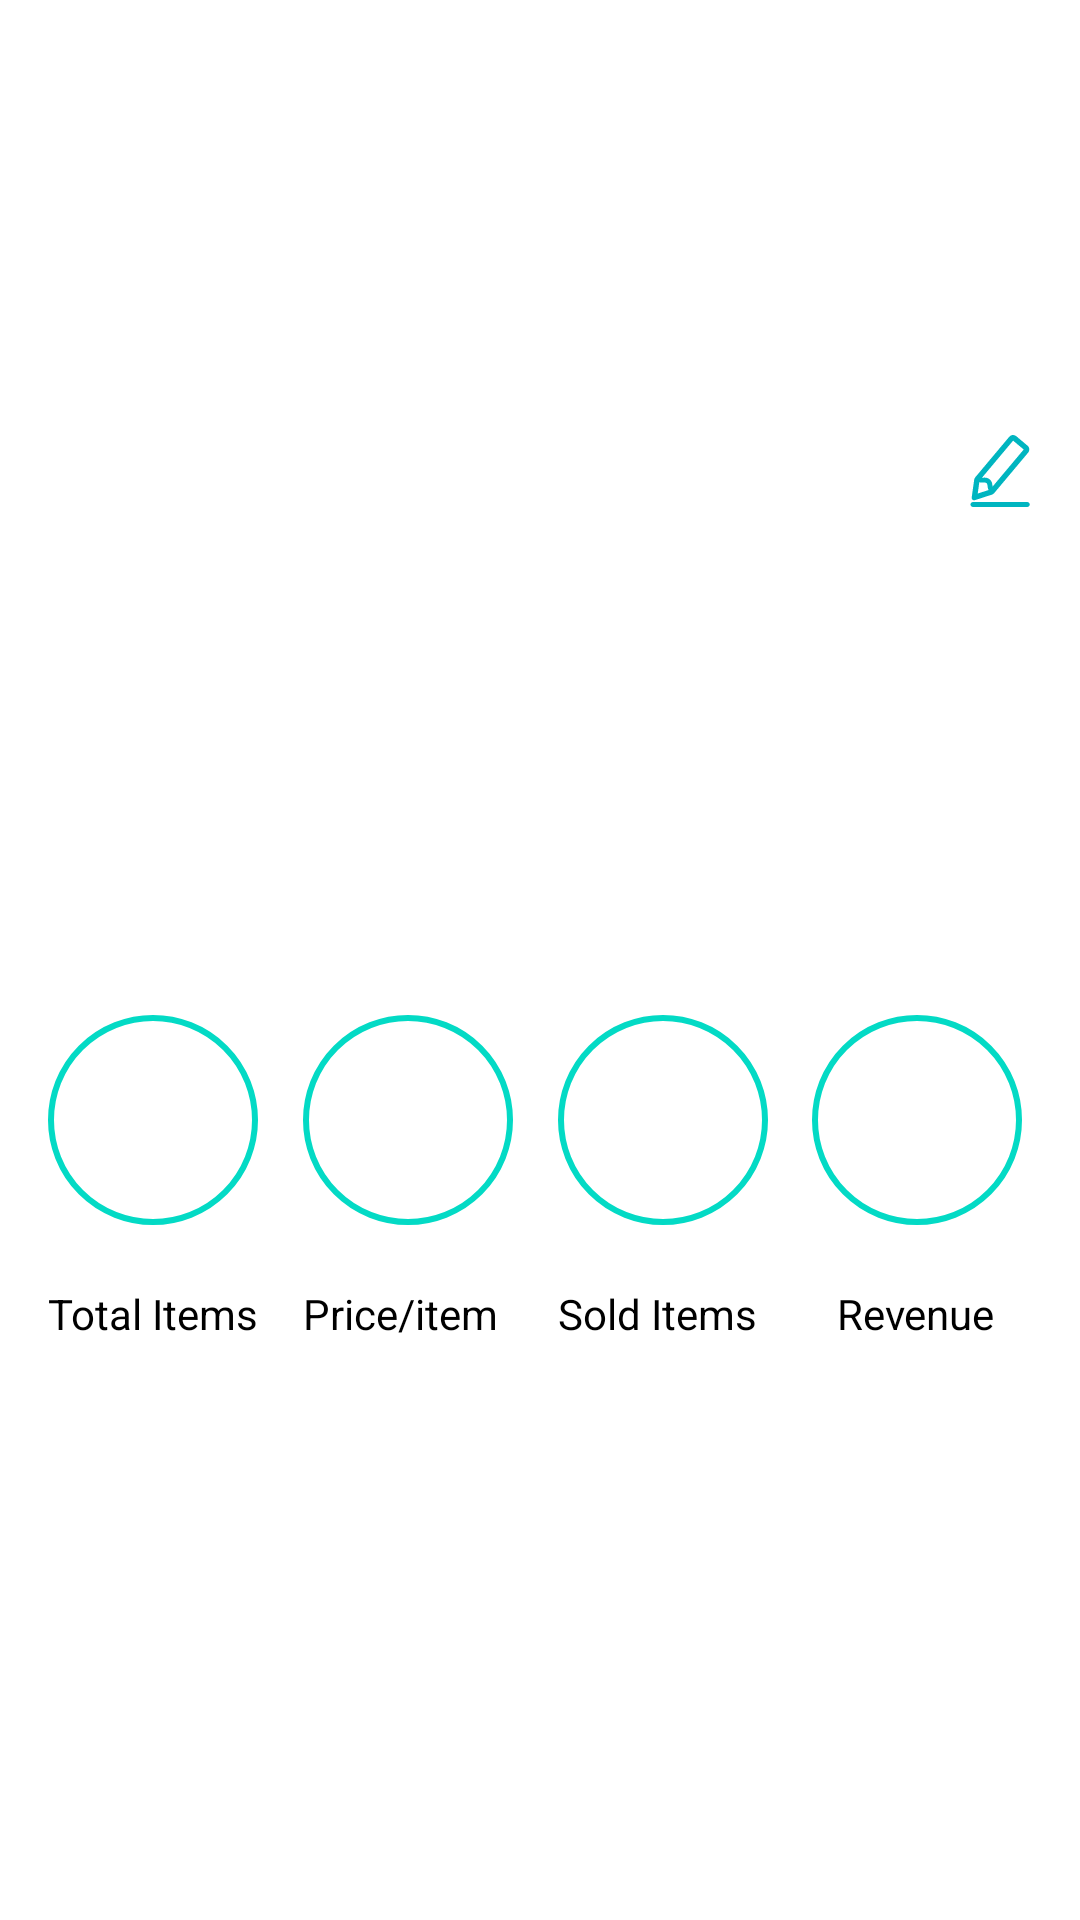

Named icons in this screenshot (1080px x 1920px) and their bounding boxes, (left=x1, top=y1, right=x2, bottom=y2):
owner product edit: (left=970, top=435, right=1030, bottom=507)
